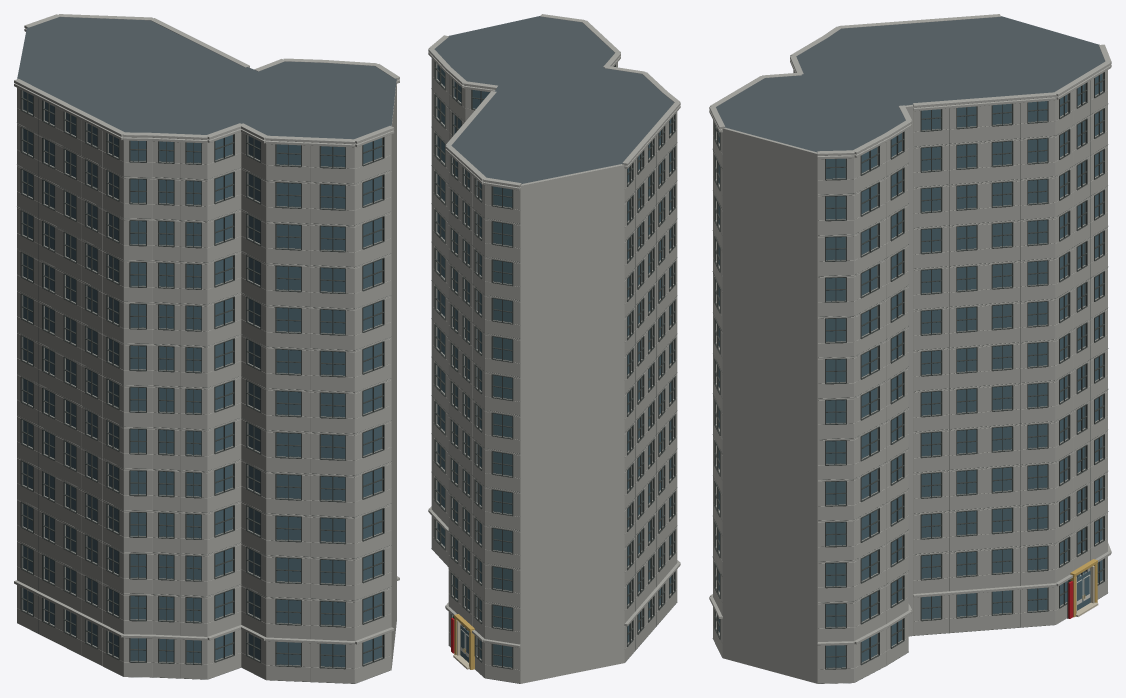
The model's file is pel-exterior-3fce650fa5a6.glb.
3 renders of one model, left to right at view 1: azimuth 30°, elevation 25°; view 2: azimuth 150°, elevation 25°; view 3: azimuth 270°, elevation 25°, orthographic. The views are drawn at different scales.
Visible parts, largest first — view 1: PEL.001; view 2: PEL.001; view 3: PEL.001.
Boxes of the visible parts, x1,y1,x2,y2 form: PEL.001: (14,14,399,683); PEL.001: (428,14,680,683); PEL.001: (709,14,1111,683).
Size of the model in its own units: 24.89 by 44.15 by 30.27.
